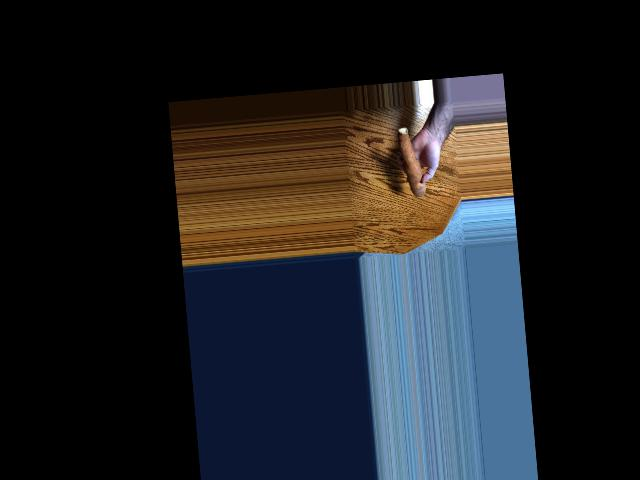sweet_potato: (397, 128, 424, 202)
